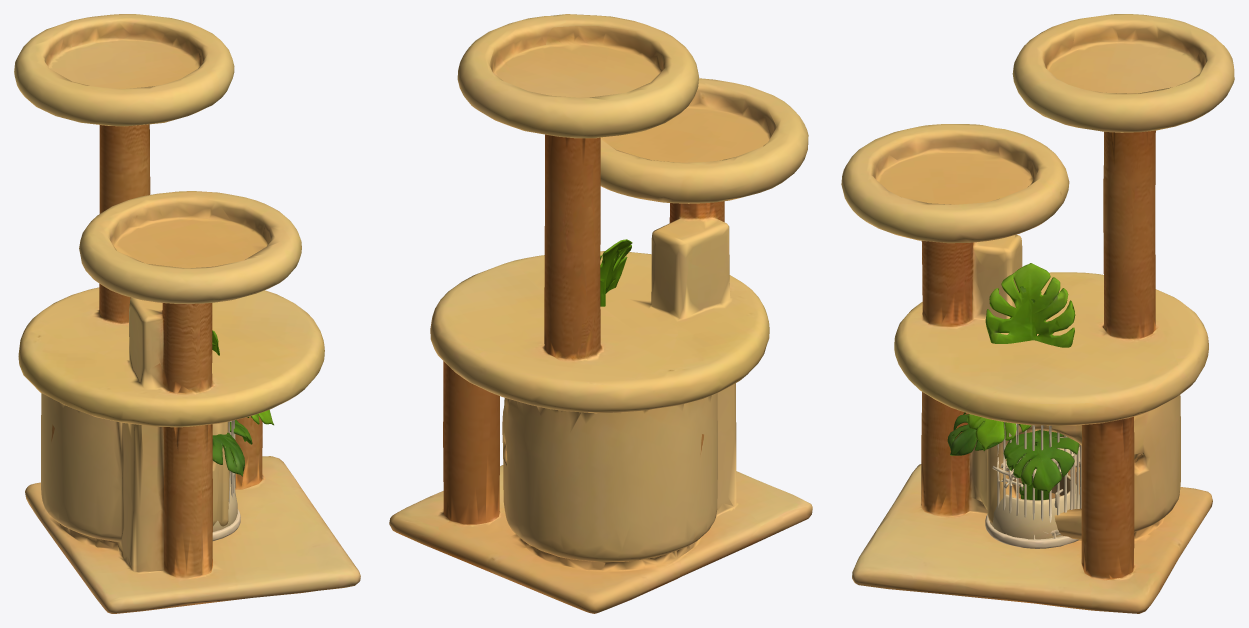
Rendered from animalerie.glb.
3 renders of one model, left to right at view 1: azimuth 30°, elevation 25°; view 2: azimuth 150°, elevation 25°; view 3: azimuth 270°, elevation 25°, orthographic. The views are drawn at different scales.
Parts seen in each view (by area): view 1: arbre-a-chat, monstera-en-pot, cage-a-oiseau; view 2: arbre-a-chat, monstera-en-pot; view 3: arbre-a-chat, monstera-en-pot, cage-a-oiseau.
Boxes of the visible parts, x1=… form: arbre-a-chat: x1=14, y1=14, x2=360, y2=613; monstera-en-pot: x1=212, y1=330, x2=273, y2=531; cage-a-oiseau: x1=212, y1=420, x2=240, y2=540; arbre-a-chat: x1=389, y1=14, x2=812, y2=613; monstera-en-pot: x1=600, y1=239, x2=632, y2=306; arbre-a-chat: x1=841, y1=14, x2=1234, y2=613; monstera-en-pot: x1=947, y1=263, x2=1079, y2=539; cage-a-oiseau: x1=985, y1=422, x2=1081, y2=548.
Bounding box in the file's own units: 0.8953 × 1.4 × 1.04.
Materials: 1 (1 with a texture image).
